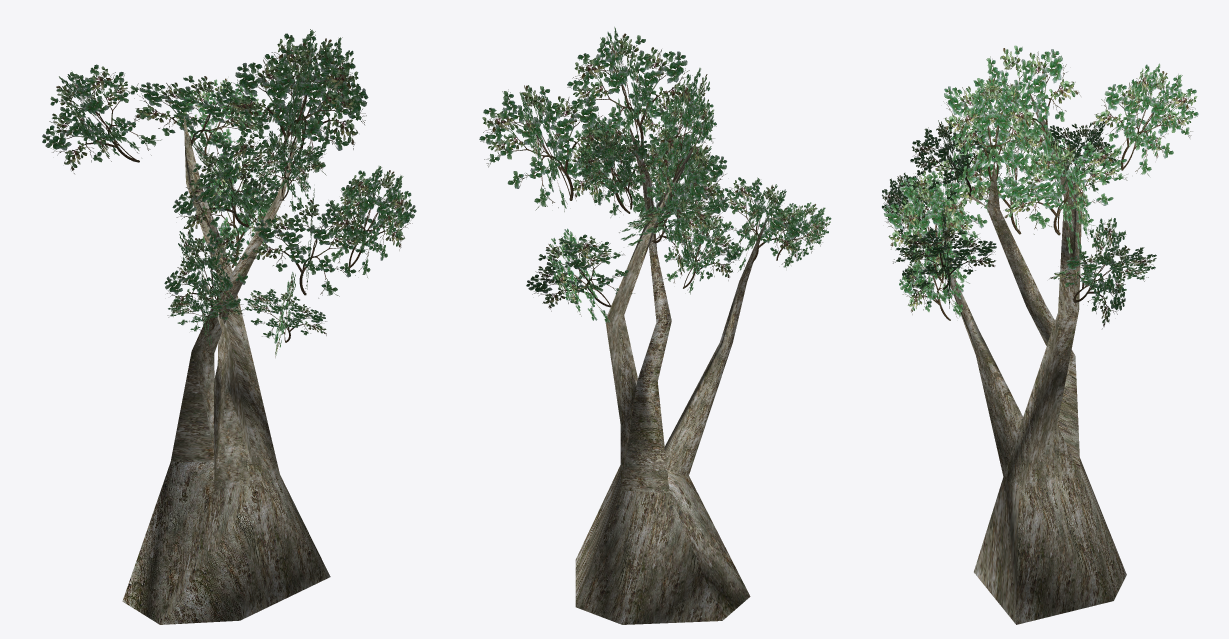
File: decd_hollytreeleaves_a1_l2.fbx
3 views of the same model, side by side, from view 1: azimuth 30°, elevation 25°; view 2: azimuth 150°, elevation 25°; view 3: azimuth 270°, elevation 25° (orthographic). The views are drawn at different scales.
Parts seen in each view (by area): view 1: mesh_node; view 2: mesh_node; view 3: mesh_node.
Part boxes in pixels (left/top/right/bottom): mesh_node: left=42, top=29, right=416, bottom=624; mesh_node: left=479, top=27, right=831, bottom=624; mesh_node: left=882, top=45, right=1198, bottom=624.
Bounding box in the file's own units: 9.85 × 17.32 × 10.01.
